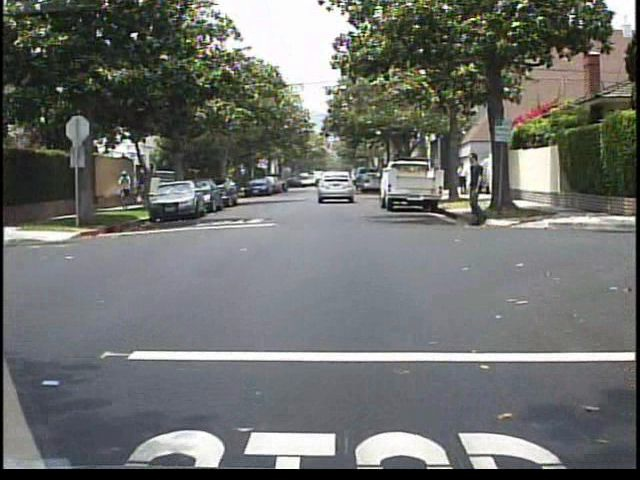person: (459, 153, 503, 232), (115, 167, 137, 204), (171, 169, 189, 204), (457, 161, 469, 197)
